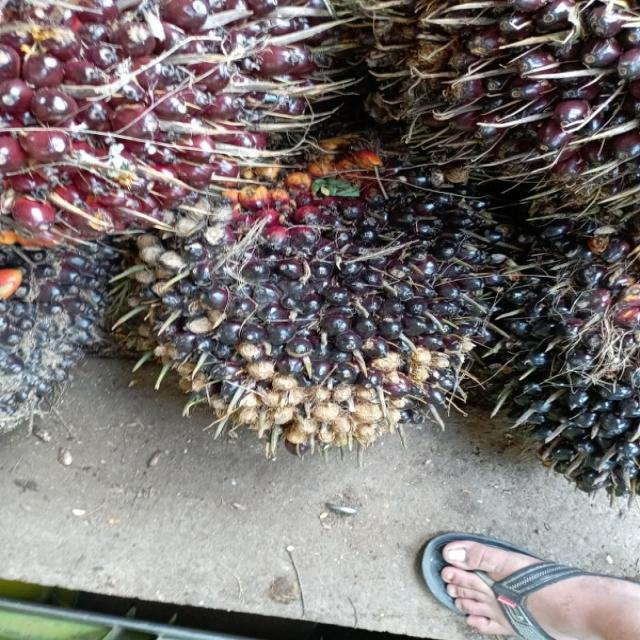fraksi 00: (143, 134, 495, 450), (504, 216, 640, 501)
fraksi 1: (0, 0, 331, 252)
